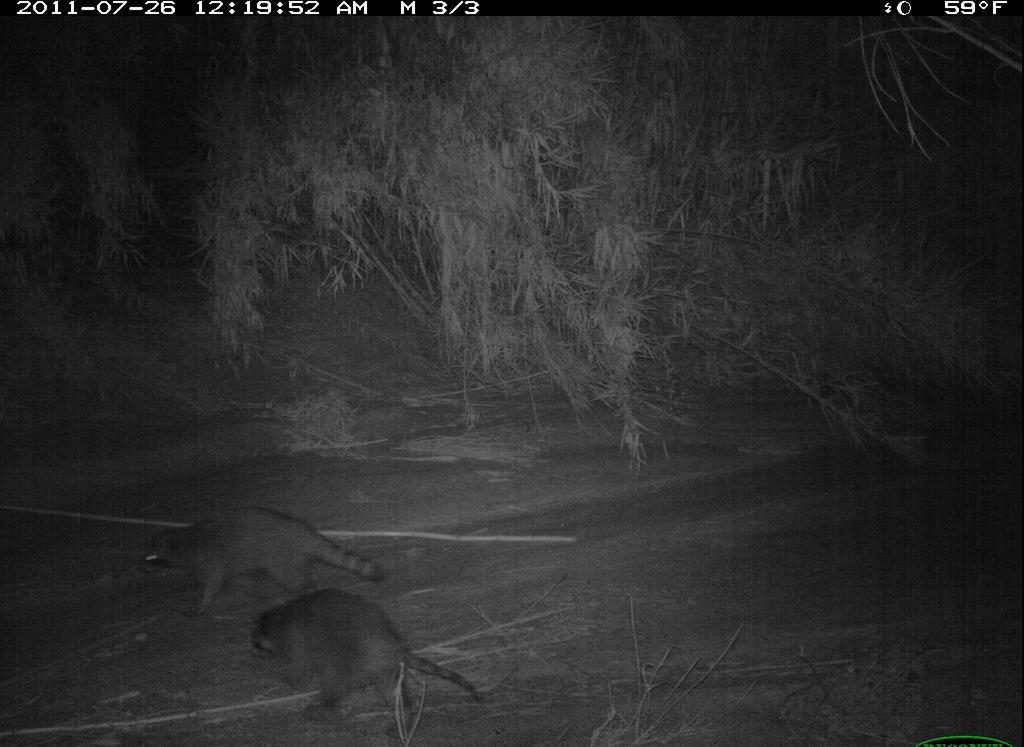raccoon: (241, 588, 493, 739)
